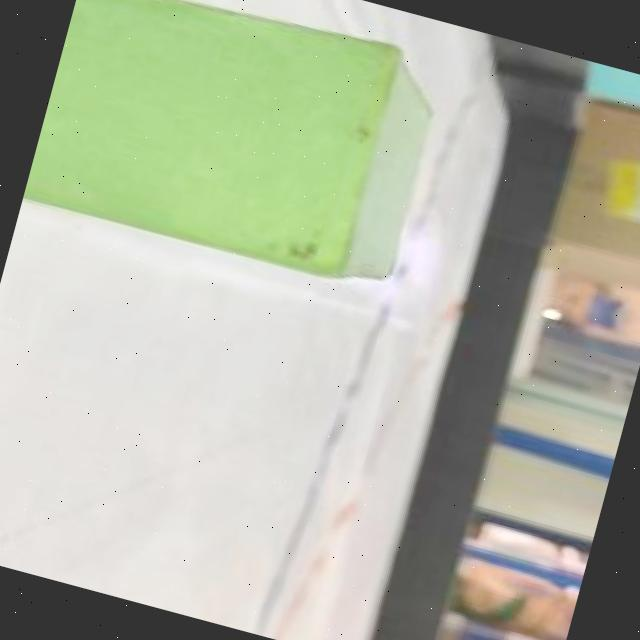greenbox: (20, 0, 458, 303)
